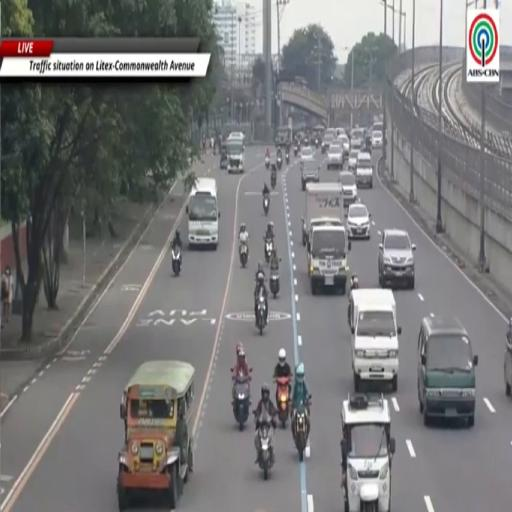bus: (186, 178, 220, 249)
car: (418, 315, 477, 427), (379, 229, 416, 289), (347, 203, 371, 239), (339, 171, 357, 206), (327, 141, 343, 169), (337, 134, 350, 157), (351, 130, 364, 149), (348, 150, 359, 170), (321, 135, 333, 153), (372, 131, 383, 149), (301, 147, 314, 162), (228, 132, 244, 140), (372, 122, 383, 132), (336, 127, 345, 137)
jeepney: (117, 361, 194, 511), (342, 394, 395, 511), (220, 141, 227, 169)
motorcycle: (292, 396, 310, 462), (233, 375, 250, 430), (258, 422, 274, 479), (277, 377, 290, 428), (256, 295, 266, 334), (172, 247, 181, 276), (270, 271, 279, 298), (264, 237, 273, 264), (239, 244, 248, 267), (263, 195, 269, 215), (271, 169, 276, 189), (265, 156, 270, 169), (277, 156, 282, 169), (294, 146, 298, 156), (286, 153, 289, 164), (315, 139, 318, 149)
truck: (307, 224, 350, 295), (301, 183, 344, 246), (301, 156, 320, 190), (227, 137, 244, 173), (276, 126, 292, 148)
